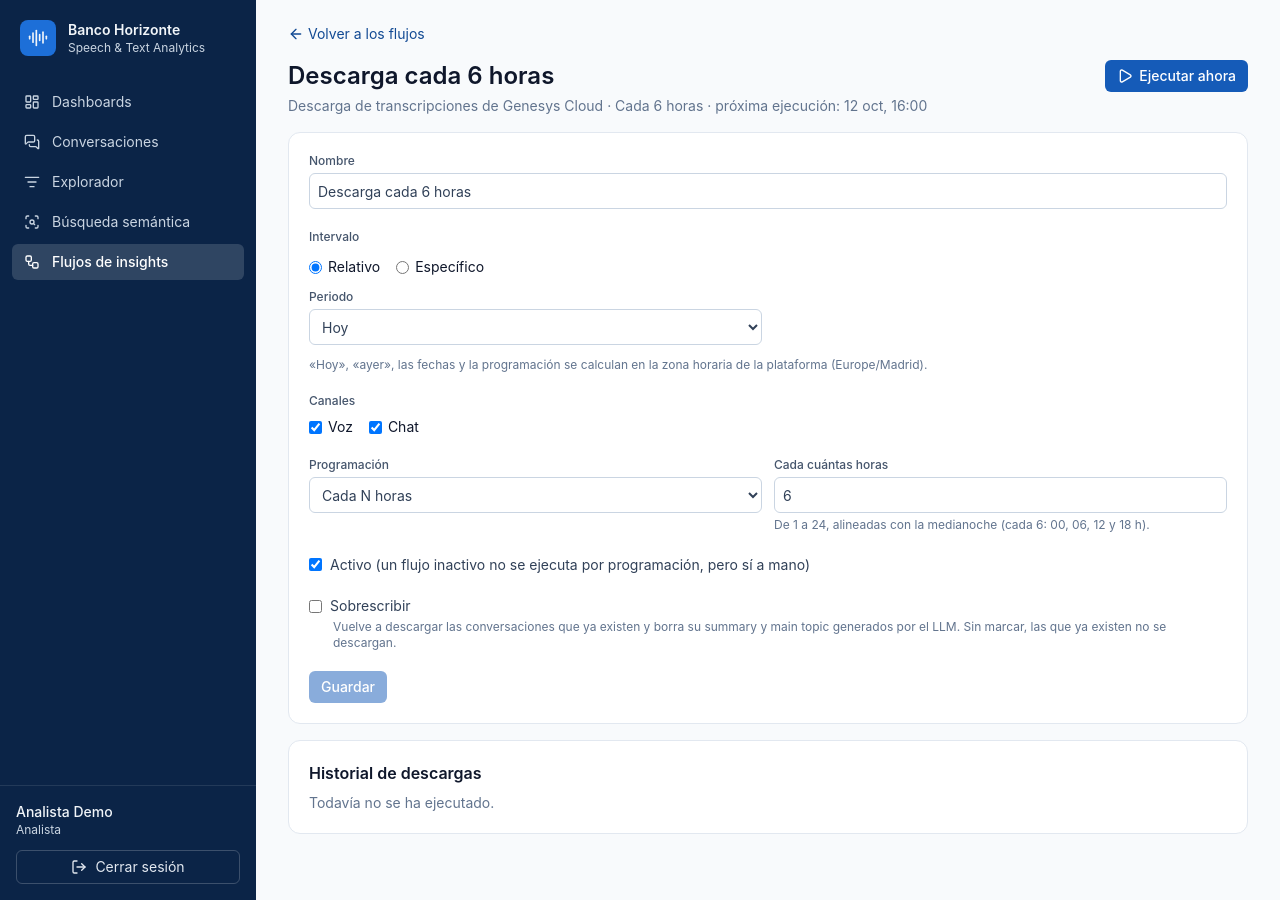
Test case: Flujos de descarga: formulario › un 422 muestra el error junto a su campo y conserva lo escrito
Expected: the field labelled "Nombre" is shown, [309,173,1227,209]
Select "Últimas horas" in the dropdown labelled "Periodo": (536, 327) [309,309,762,345]
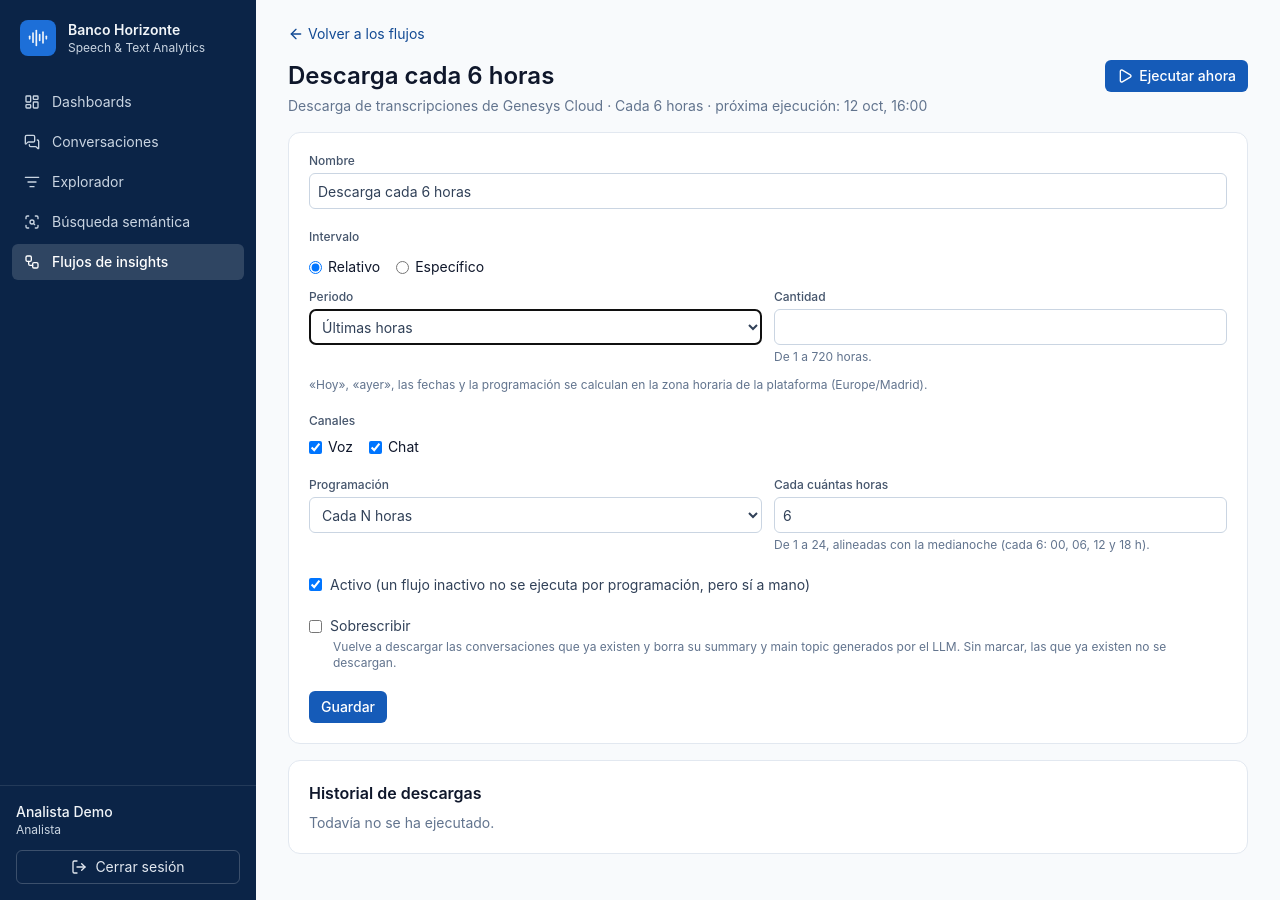
In the number field labelled "Cantidad": (1000, 327) [774,309,1227,345], type "900"
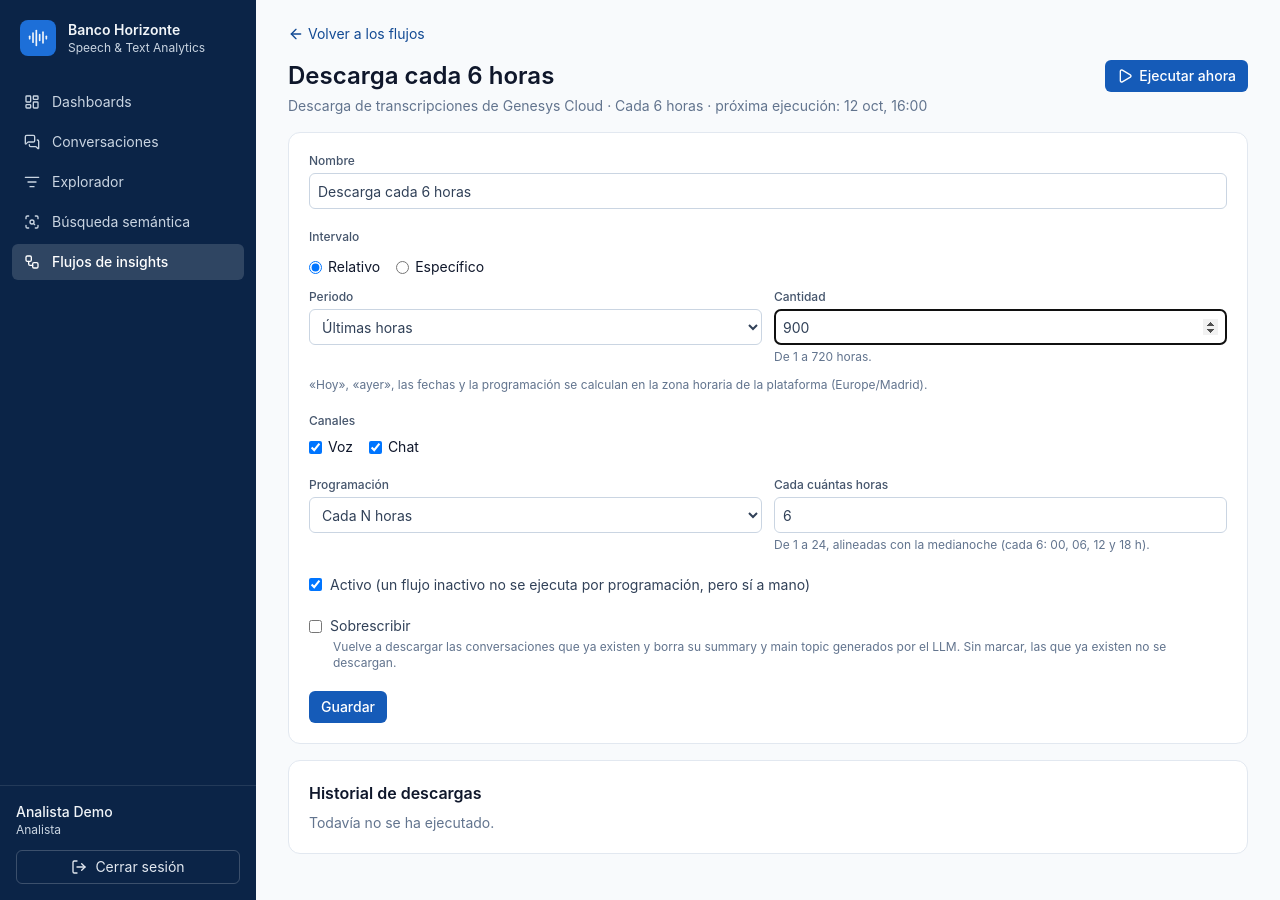
Click the button "Guardar": (348, 706) [309,690,387,722]
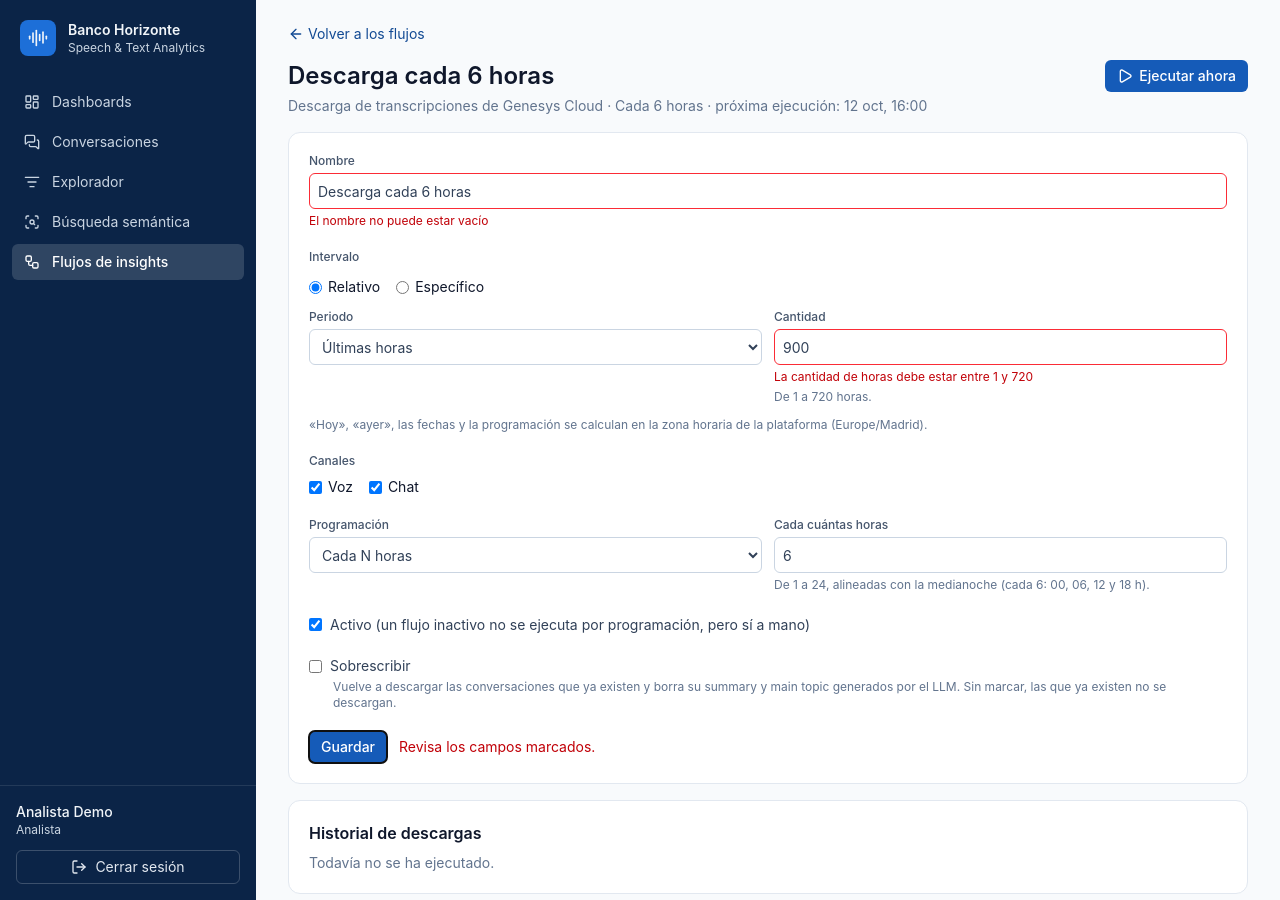
Now the text "La cantidad de horas debe estar entre 1 y 720" is shown, box [774,369,1033,384]
